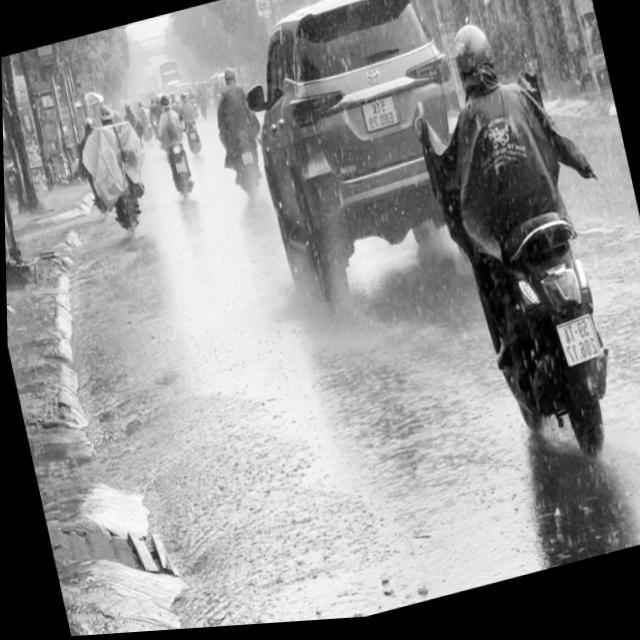helmet: (447, 22, 500, 98)
licenseplate: (404, 0, 640, 510)
nohelmet: (554, 321, 601, 373)
